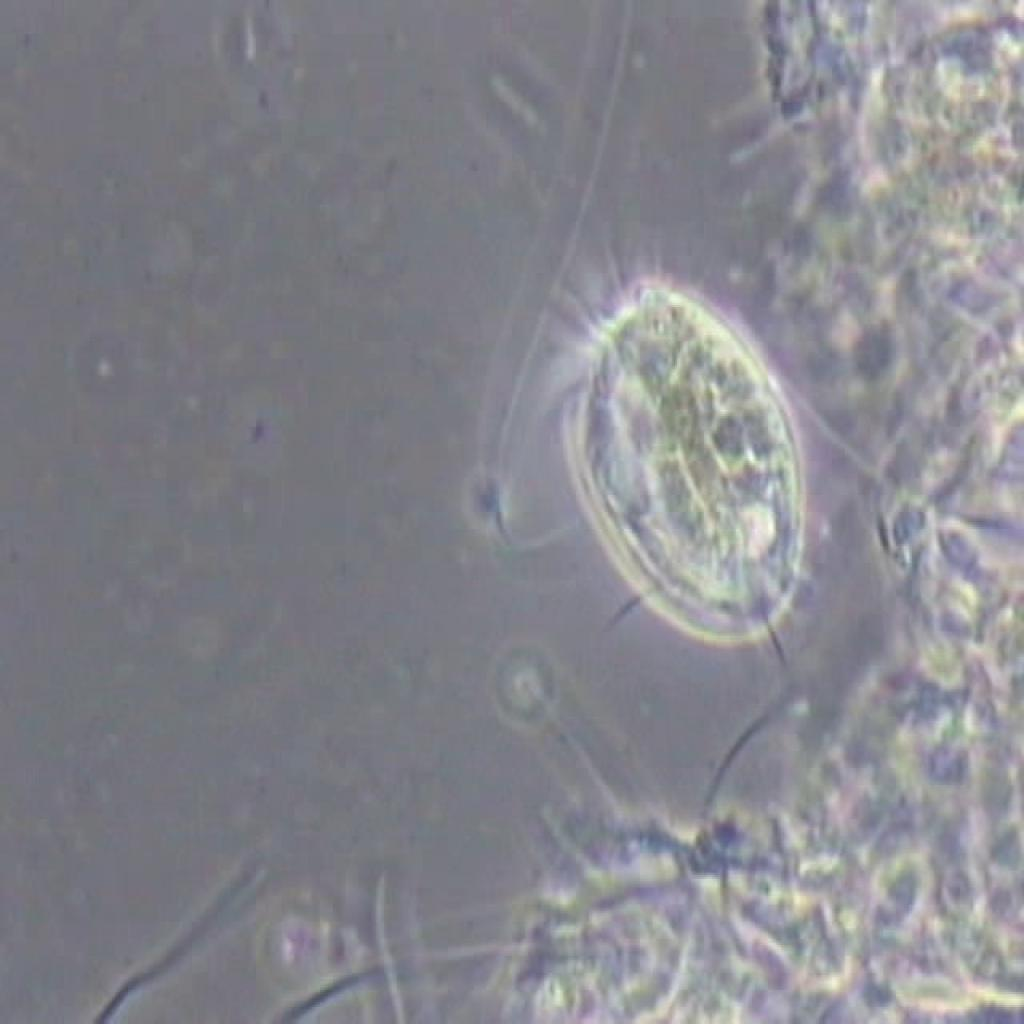Euplotes: (526, 237, 823, 687)
